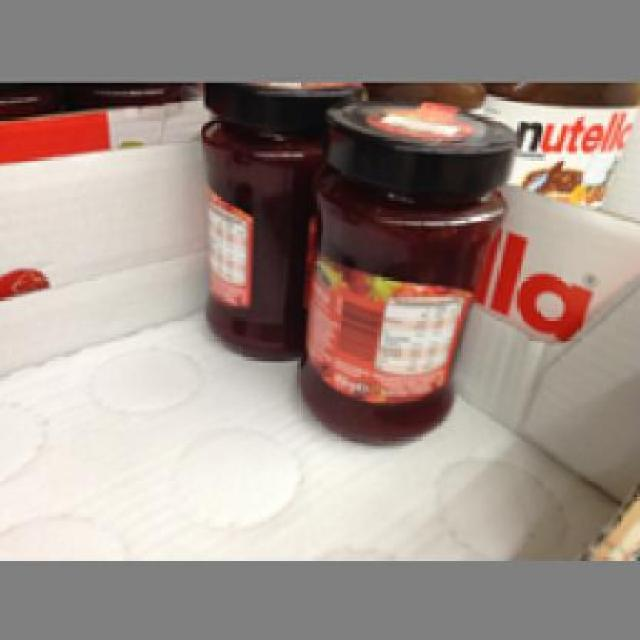Jam: (297, 100, 520, 443), (197, 77, 357, 360)
